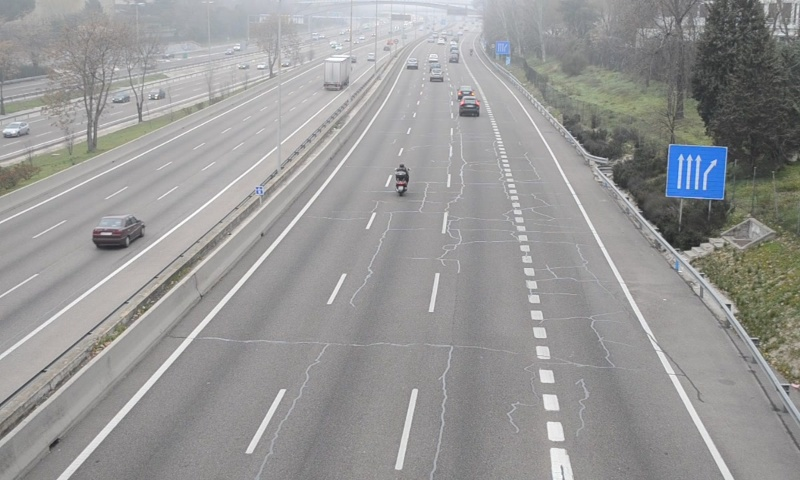car: (458, 96, 480, 117)
motorcycle: (392, 163, 409, 198)
